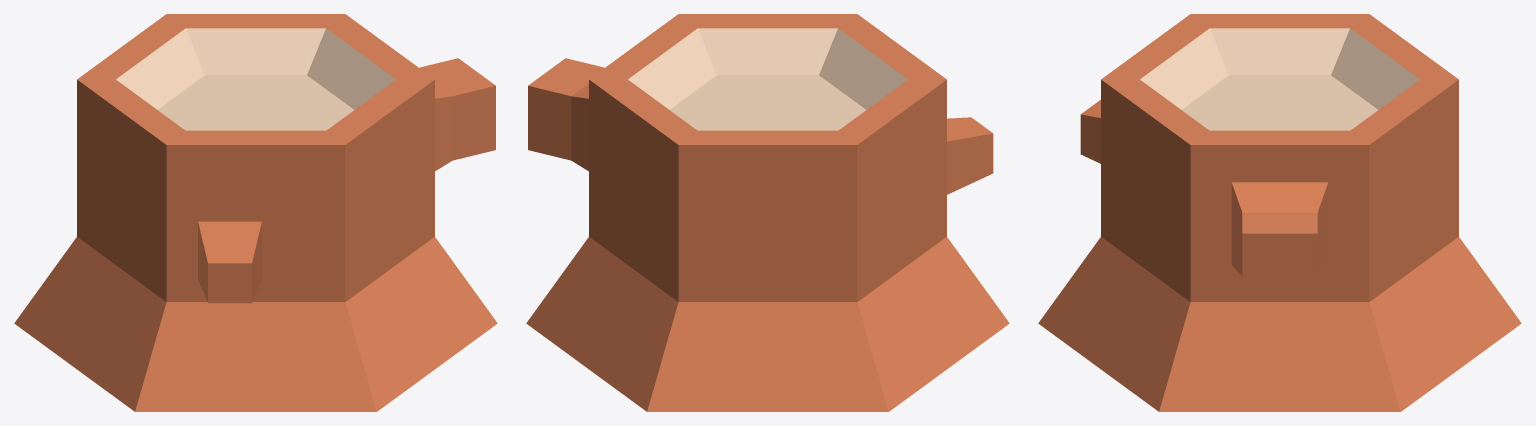
The model's file is stump-round-detailed.glb.
3 renders of one model, left to right at view 1: azimuth 30°, elevation 25°; view 2: azimuth 150°, elevation 25°; view 3: azimuth 270°, elevation 25°, orthographic.
Parts seen in each view (by area): view 1: stump_roundDetailed; view 2: stump_roundDetailed; view 3: stump_roundDetailed.
Part boxes in pixels (<box>): stump_roundDetailed: <box>14,14,497,411</box>; stump_roundDetailed: <box>526,14,1009,411</box>; stump_roundDetailed: <box>1038,14,1521,411</box>.
Size of the model in its own units: 0.3565 by 0.2065 by 0.371.
